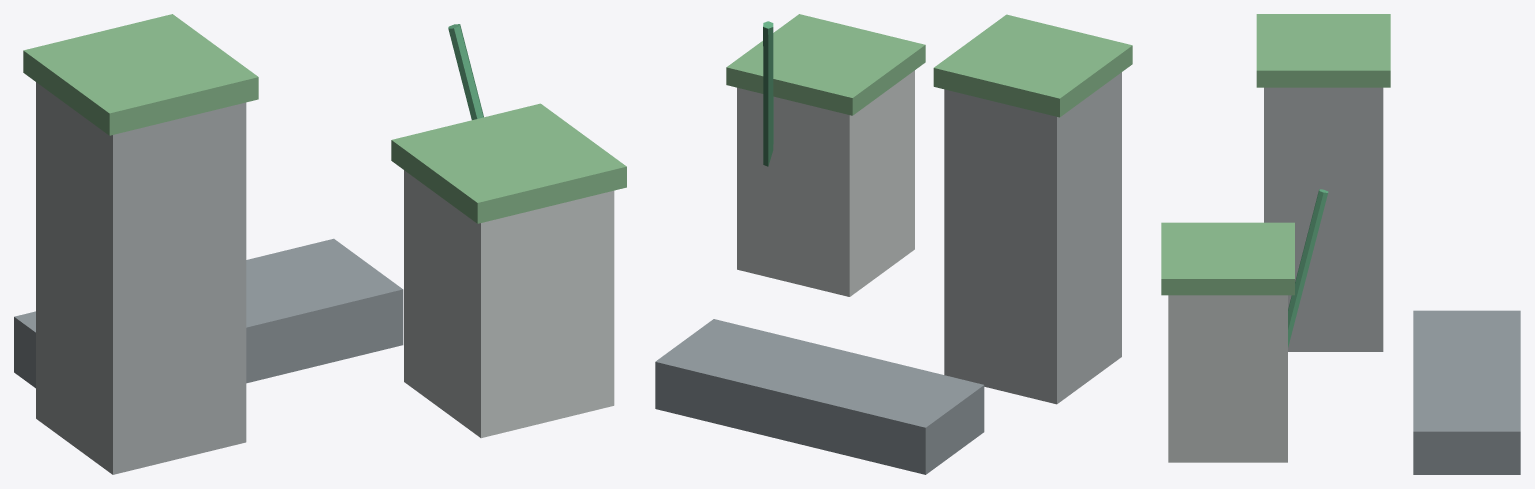
Rendered from ruina_musgosa.glb.
3 renders of one model, left to right at view 1: azimuth 30°, elevation 25°; view 2: azimuth 150°, elevation 25°; view 3: azimuth 270°, elevation 25°, orthographic. The views are drawn at different scales.
Parts seen in each view (by area): view 1: ruina_musgosa; view 2: ruina_musgosa; view 3: ruina_musgosa.
Part boxes in pixels (bbox=[...]): ruina_musgosa: bbox=[14, 14, 626, 474]; ruina_musgosa: bbox=[655, 14, 1132, 474]; ruina_musgosa: bbox=[1161, 14, 1520, 474].
Bounding box in the file's own units: 3.42 × 2.88 × 3.01.
